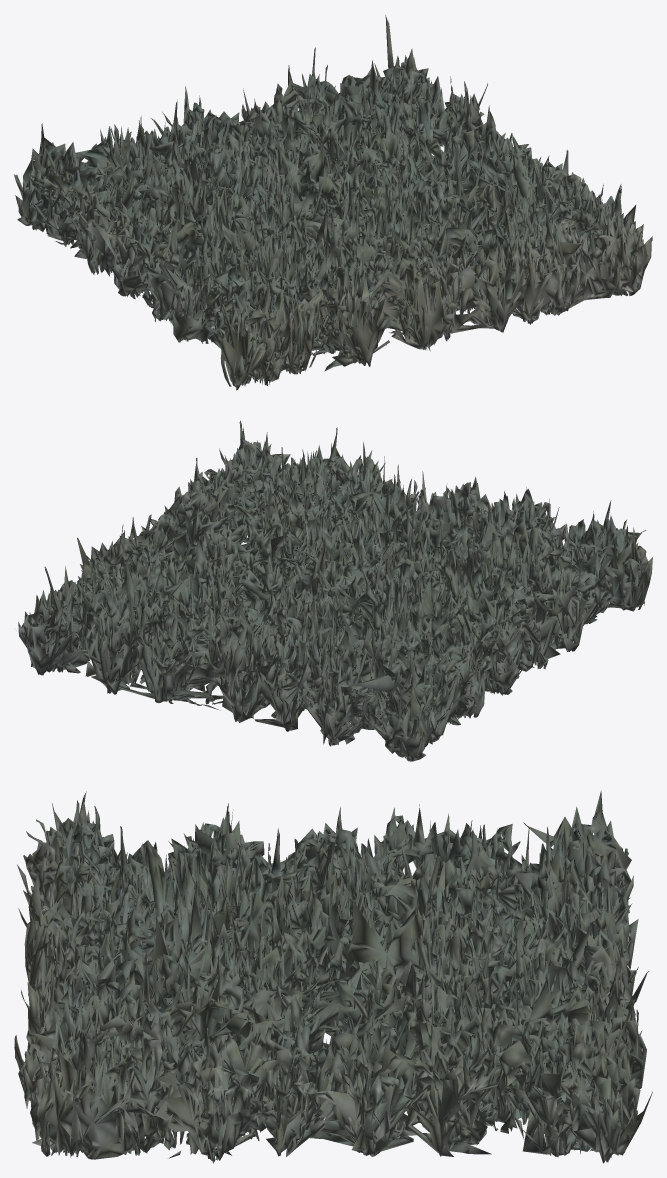
File: Meshy_AI_Verdant_Symmetry_1115233324_texture.glb
The picture shows the model from 3 angles, top to bottom: view 1: azimuth 30°, elevation 25°; view 2: azimuth 150°, elevation 25°; view 3: azimuth 270°, elevation 25°; orthographic projection. The views are drawn at different scales.
Size of the model in its own units: 1.93 by 0.5145 by 1.95.
1 material, 1 textured.
